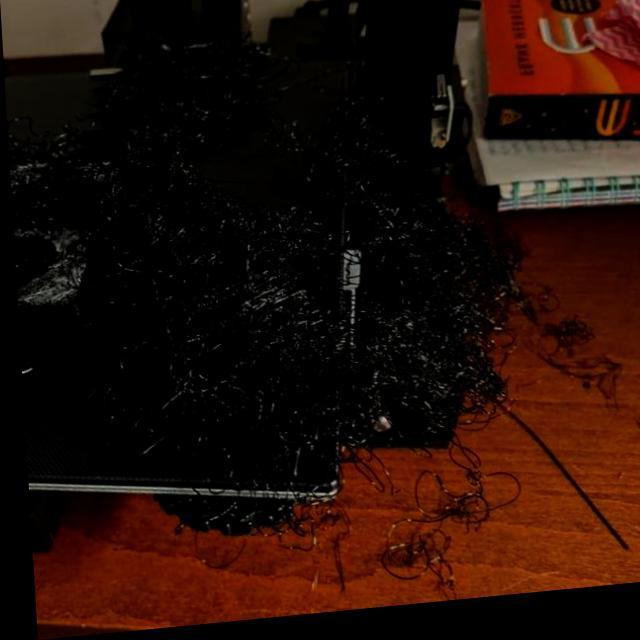spaghetti: (346, 236, 511, 432), (134, 304, 271, 462), (110, 43, 261, 160), (94, 167, 213, 291), (254, 314, 358, 442), (194, 203, 313, 308), (319, 116, 408, 236), (15, 121, 89, 218)
